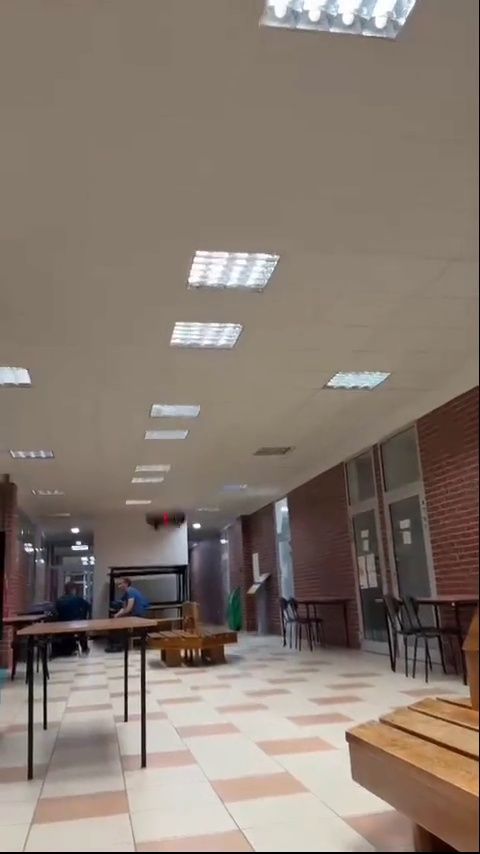drone: (142, 505, 185, 529)
no vest: (55, 579, 91, 619), (115, 571, 142, 613)
